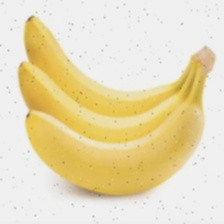banana: (0, 31, 187, 199)
